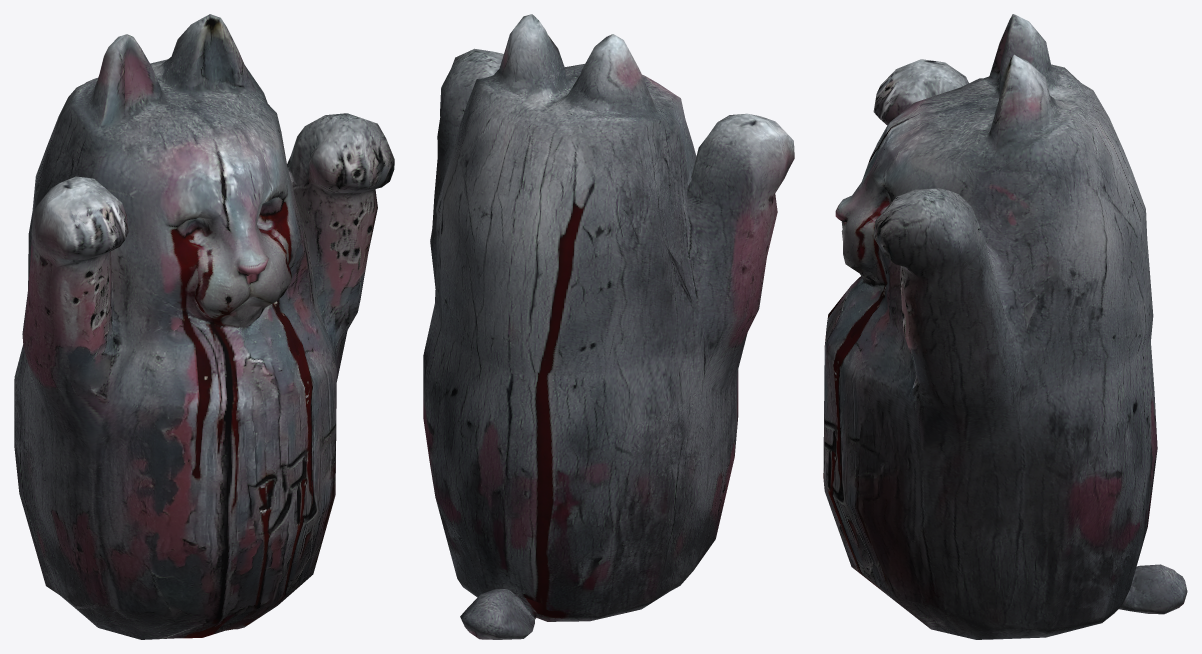
Rendered from Fake_Collection.fbx.
The picture shows the model from 3 angles, left to right: view 1: azimuth 30°, elevation 25°; view 2: azimuth 150°, elevation 25°; view 3: azimuth 270°, elevation 25°; orthographic projection. The views are drawn at different scales.
Visible parts, largest first — view 1: mesh_node; view 2: mesh_node; view 3: mesh_node.
Part boxes in pixels (box(x1,y1,x2,y2)): mesh_node: box(14, 14, 394, 639); mesh_node: box(423, 14, 794, 639); mesh_node: box(823, 14, 1187, 639).
Bounding box in the file's own units: 63.48 × 100 × 58.2.
Materials: 1 (1 with a texture image).
